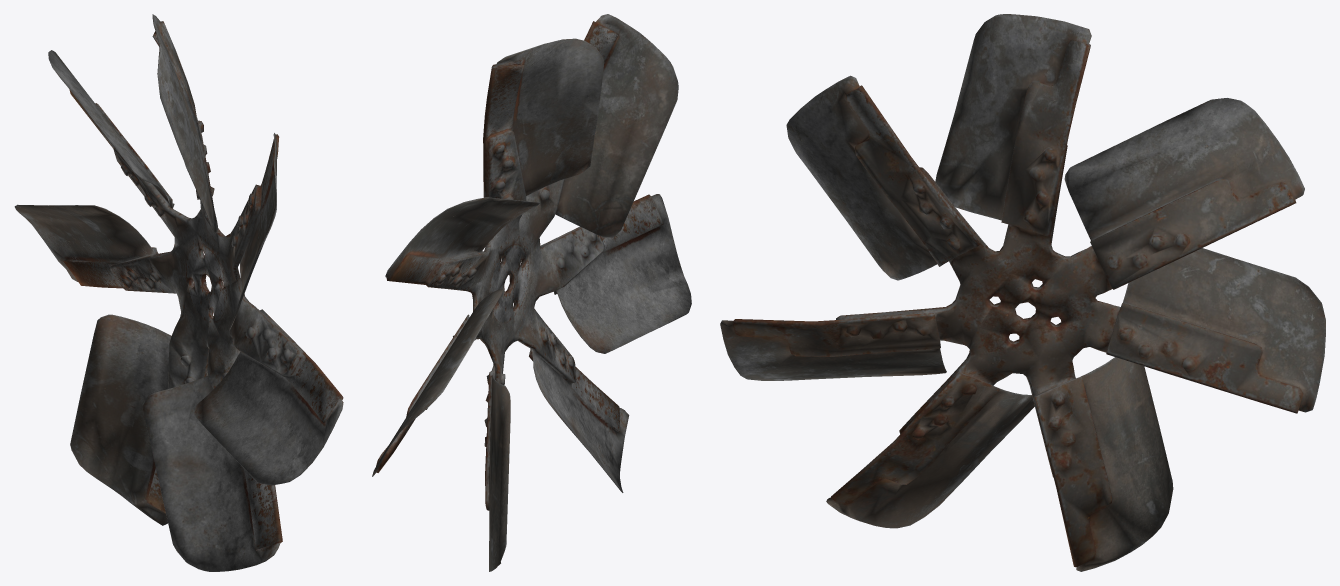
File: rusty_radiator_fan_wcljdev_low.glb
3 renders of one model, left to right at view 1: azimuth 30°, elevation 25°; view 2: azimuth 150°, elevation 25°; view 3: azimuth 270°, elevation 25°, orthographic. The views are drawn at different scales.
Visible parts, largest first — view 1: wcljdev_LOD0_TIER3_000; view 2: wcljdev_LOD0_TIER3_000; view 3: wcljdev_LOD0_TIER3_000.
Part boxes in pixels (x1,y1,x2,y2): wcljdev_LOD0_TIER3_000: (14, 14, 343, 571); wcljdev_LOD0_TIER3_000: (372, 14, 691, 571); wcljdev_LOD0_TIER3_000: (720, 14, 1325, 571).
Size of the model in its own units: 0.1048 by 0.5966 by 0.6042.
1 material, 1 textured.
